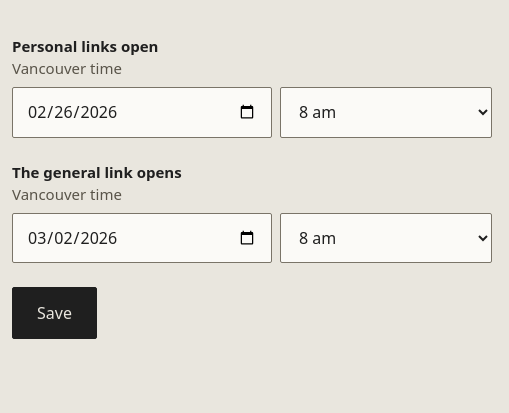
it: OpeningForm (A7b) › an empty date is caught before sending; out of range is said under Save
Clear the date field named "The general link opens date" at (142, 238), box top-left (12, 213), bottom-right (272, 263)
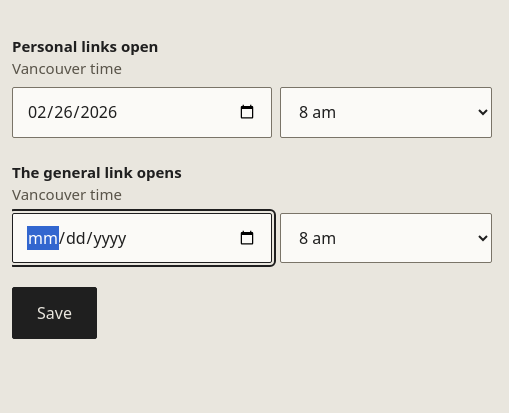
Click the button "Save" at (54, 313), box top-left (12, 287), bottom-right (97, 339)
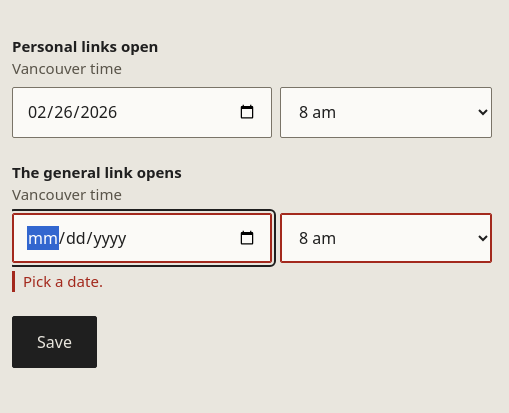
Result: the text "Pick a date." is shown at top-left (23, 271), bottom-right (103, 291)
Type "2027-07-01" into the date field named "The general link opens date" at (142, 238), box top-left (12, 213), bottom-right (272, 263)
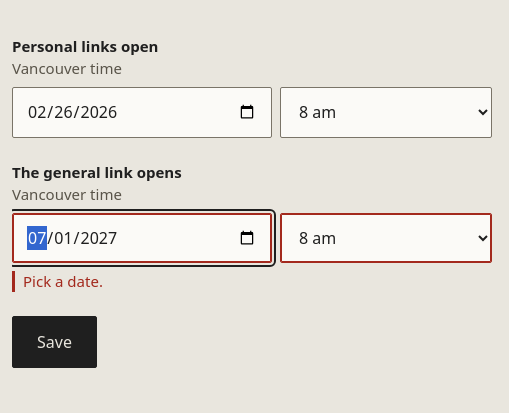
Click the button "Save" at (54, 342), box top-left (12, 316), bottom-right (97, 368)
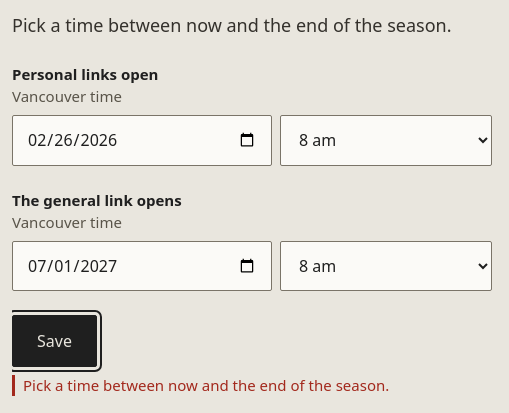
Result: the text "Pick a time between now and the end of the season." below "The general link opens" is shown at top-left (23, 375), bottom-right (389, 395)
